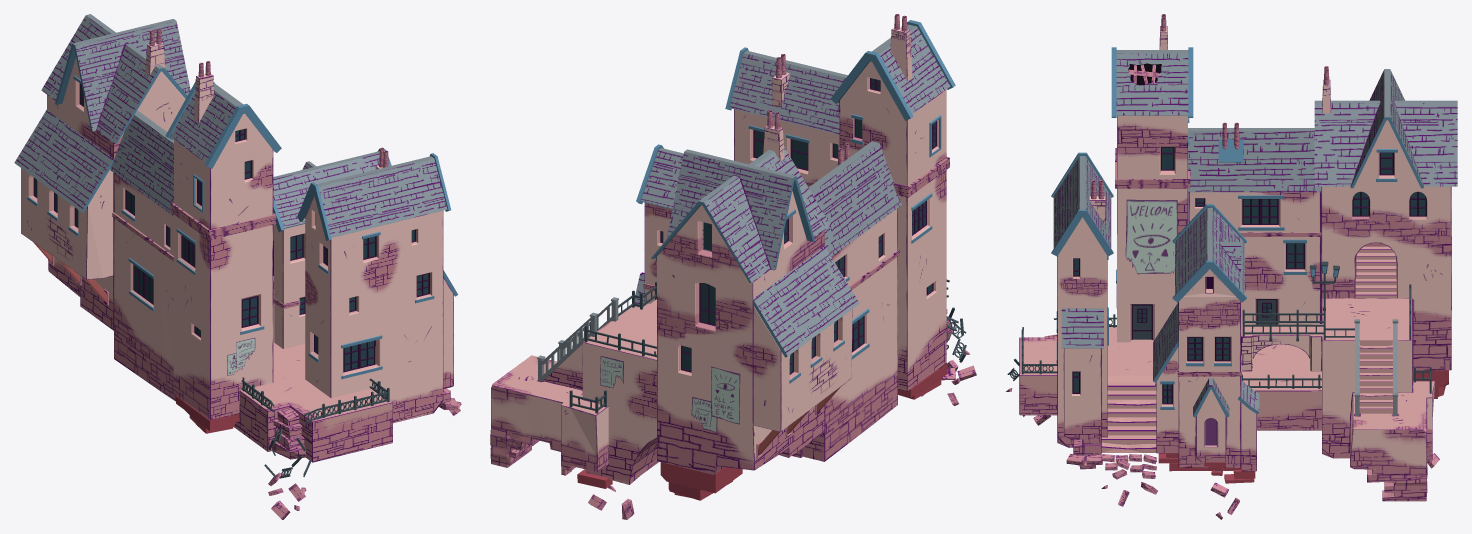
File: fantasy_town.obj
3 views of the same model, side by side, from view 1: azimuth 30°, elevation 25°; view 2: azimuth 150°, elevation 25°; view 3: azimuth 270°, elevation 25° (orthographic). The views are drawn at different scales.
Parts seen in each view (by area): view 1: Roof.001_Cube.022, Base.006_Cube.007, Base.005_Cube.006, Base.003_Cube.004, Base.004_Cube.005, Platform_Cube, Windows_and_doors_Cube.096, Base.007_Cube.008, Deco_Cube.001, Deco_wind.001_Cube.021, Deco_wind_Cube.036, ground.001_Plane.002 (+8 smaller); view 2: Roof.001_Cube.022, Base.003_Cube.004, Base.005_Cube.006, Base.004_Cube.005, Base.001_Cube.002, Base.002_Cube.003, Windows_and_doors_Cube.096, Base.006_Cube.007, Deco.001_Cube.012, Deco_Cube.001, Stones.001_Cube.009, Pipes.001_Cube.126 (+11 smaller); view 3: Roof.001_Cube.022, Base.003_Cube.004, Base.007_Cube.008, Platform_Cube, Base.006_Cube.007, Base.005_Cube.006, Base.004_Cube.005, stairs_2_Cube.027, Base.002_Cube.003, Base.001_Cube.002, Windows_and_doors_Cube.096, Papers.006_Grid.006 (+11 smaller).
Boxes of the visible parts, x1=… form: Roof.001_Cube.022: x1=14, y1=14, x2=457, y2=296; Base.006_Cube.007: x1=305, y1=196, x2=453, y2=423; Base.005_Cube.006: x1=173, y1=113, x2=273, y2=420; Base.003_Cube.004: x1=21, y1=57, x2=185, y2=330; Base.004_Cube.005: x1=114, y1=173, x2=176, y2=401; Platform_Cube: x1=232, y1=342, x2=392, y2=462; Windows_and_doors_Cube.096: x1=33, y1=83, x2=429, y2=372; Base.007_Cube.008: x1=273, y1=224, x2=305, y2=348; Deco_Cube.001: x1=241, y1=377, x2=389, y2=478; Deco_wind.001_Cube.021: x1=112, y1=202, x2=300, y2=309; Deco_wind_Cube.036: x1=27, y1=75, x2=434, y2=379; ground.001_Plane.002: x1=272, y1=408, x2=305, y2=459; Roof.001_Cube.022: x1=635, y1=20, x2=955, y2=357; Base.003_Cube.004: x1=657, y1=191, x2=852, y2=474; Base.005_Cube.006: x1=839, y1=61, x2=946, y2=391; Base.004_Cube.005: x1=802, y1=208, x2=897, y2=461; Base.001_Cube.002: x1=490, y1=355, x2=608, y2=475; Base.002_Cube.003: x1=582, y1=306, x2=659, y2=484; Windows_and_doors_Cube.096: x1=660, y1=78, x2=936, y2=374; Base.006_Cube.007: x1=734, y1=109, x2=839, y2=187; Deco.001_Cube.012: x1=537, y1=297, x2=618, y2=390; Deco_Cube.001: x1=569, y1=257, x2=966, y2=413; Stones.001_Cube.009: x1=660, y1=462, x2=742, y2=500; Pipes.001_Cube.126: x1=763, y1=27, x2=912, y2=161; Roof.001_Cube.022: x1=1051, y1=47, x2=1457, y2=417; Base.003_Cube.004: x1=1321, y1=120, x2=1451, y2=370; Base.007_Cube.008: x1=1156, y1=269, x2=1256, y2=471; Platform_Cube: x1=1019, y1=327, x2=1321, y2=430; Base.006_Cube.007: x1=1057, y1=217, x2=1107, y2=455; Base.005_Cube.006: x1=1117, y1=115, x2=1187, y2=342; Base.004_Cube.005: x1=1188, y1=192, x2=1321, y2=324; stairs_2_Cube.027: x1=1101, y1=246, x2=1396, y2=452; Base.002_Cube.003: x1=1322, y1=298, x2=1412, y2=458; Base.001_Cube.002: x1=1349, y1=381, x2=1435, y2=501; Windows_and_doors_Cube.096: x1=1072, y1=147, x2=1426, y2=404; Papers.006_Grid.006: x1=1125, y1=199, x2=1177, y2=274.
Size of the model in its own units: 21.92 by 29.9 by 30.46.
31 materials, 22 textured.
